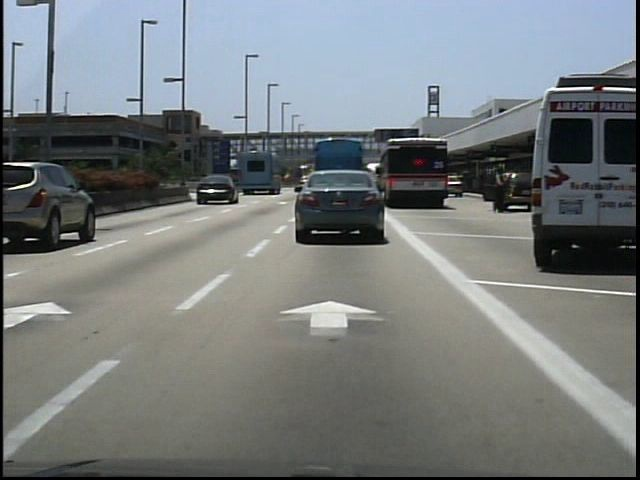person: (489, 167, 511, 219)
